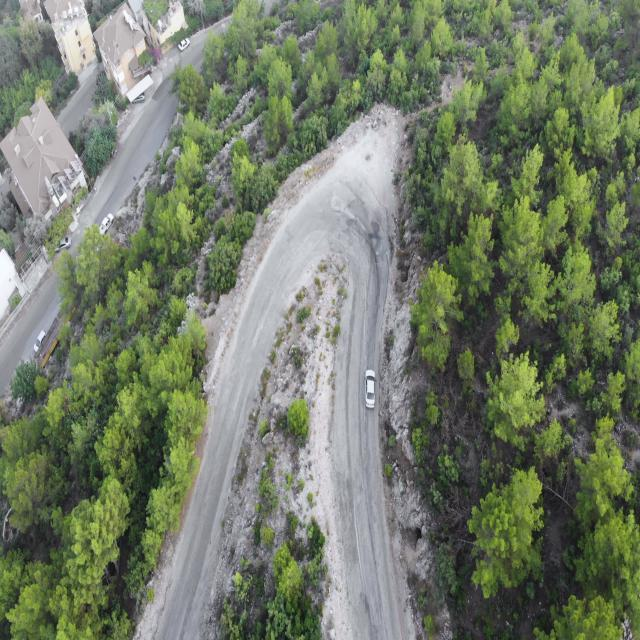vehicle: (365, 368, 376, 408), (99, 212, 114, 236), (32, 329, 46, 352), (54, 236, 72, 251), (132, 92, 146, 105), (178, 37, 190, 51)
